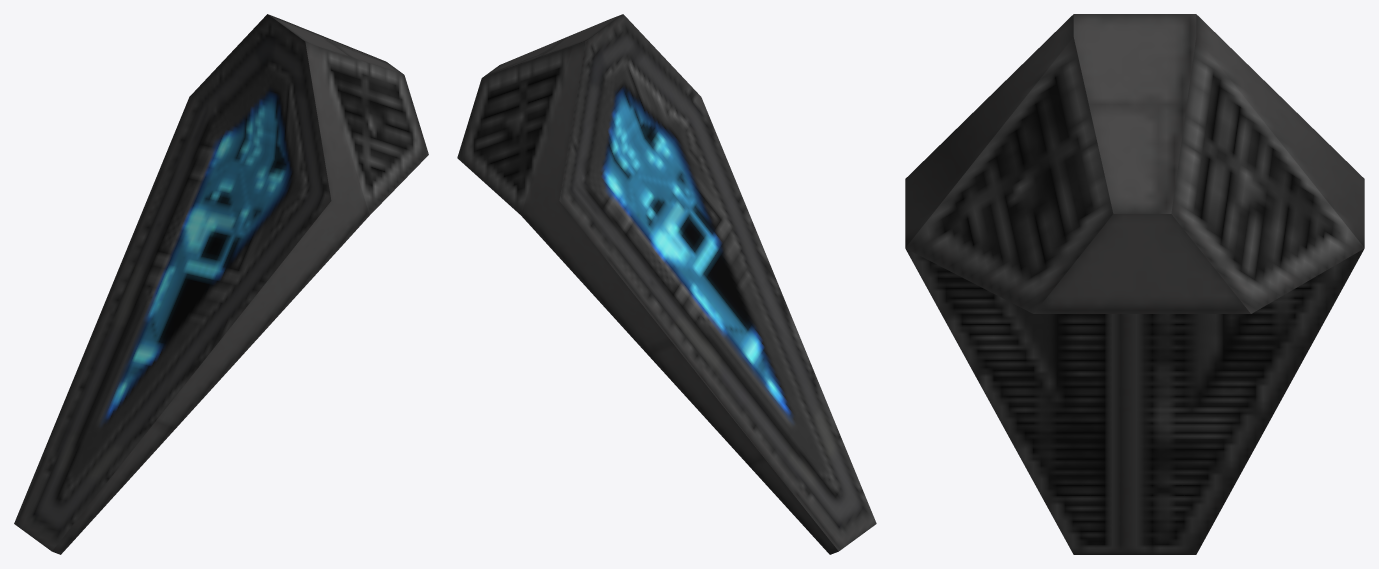
The model's file is BFP_JG_EnergyPanel01_LowerRight.FBX.
3 renders of one model, left to right at view 1: azimuth 30°, elevation 25°; view 2: azimuth 150°, elevation 25°; view 3: azimuth 270°, elevation 25°, orthographic. The views are drawn at different scales.
Parts seen in each view (by area): view 1: BFP_JG_EnergyPanel01_LowerRight; view 2: BFP_JG_EnergyPanel01_LowerRight; view 3: BFP_JG_EnergyPanel01_LowerRight.
Boxes of the visible parts, x1,y1,x2,y2 form: BFP_JG_EnergyPanel01_LowerRight: (14, 14, 428, 554); BFP_JG_EnergyPanel01_LowerRight: (457, 14, 876, 554); BFP_JG_EnergyPanel01_LowerRight: (905, 14, 1364, 554).
Size of the model in its own units: 481 by 572 by 324.
1 material, 1 textured.
